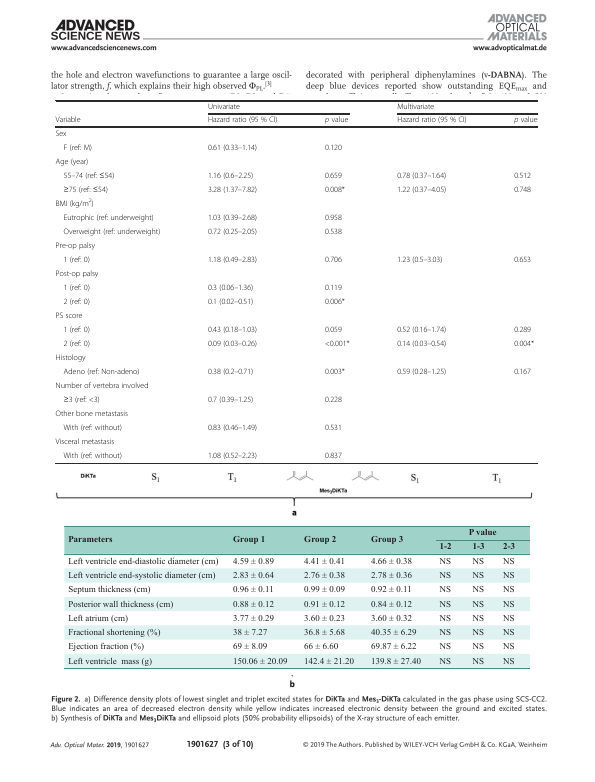borderless: (54, 99, 538, 463), (63, 524, 530, 668)
cell: (66, 557, 219, 567), (66, 571, 216, 581), (66, 600, 174, 610), (62, 227, 161, 237), (66, 628, 161, 638), (55, 381, 149, 391), (66, 585, 151, 596), (62, 213, 155, 223), (66, 657, 152, 667), (66, 642, 144, 653), (62, 367, 140, 377), (55, 409, 129, 419), (396, 116, 468, 126), (207, 116, 278, 126), (66, 614, 128, 624), (62, 423, 123, 433), (62, 451, 123, 461), (55, 437, 115, 447), (232, 657, 288, 667), (62, 171, 115, 181), (370, 642, 417, 653), (207, 143, 258, 153), (396, 171, 447, 181), (207, 185, 258, 195), (396, 185, 447, 195), (207, 213, 258, 223), (207, 227, 258, 237), (207, 255, 258, 265), (207, 325, 258, 335), (396, 325, 447, 335), (207, 339, 258, 349), (396, 339, 447, 349), (396, 367, 447, 377), (207, 423, 258, 433), (207, 451, 258, 461), (303, 657, 354, 667), (370, 657, 421, 667), (207, 171, 254, 181), (62, 185, 109, 195), (396, 255, 443, 265), (207, 283, 254, 293), (207, 297, 254, 307), (207, 367, 254, 377), (207, 395, 254, 405), (370, 628, 417, 638), (232, 585, 274, 596), (303, 585, 345, 596), (370, 585, 412, 596), (67, 536, 113, 546), (55, 198, 95, 209), (55, 269, 99, 279), (232, 557, 274, 567), (303, 557, 345, 567), (370, 557, 412, 567), (232, 571, 274, 581), (303, 571, 345, 581), (370, 571, 412, 581), (232, 600, 274, 610), (303, 600, 345, 610), (370, 600, 412, 610), (232, 614, 274, 624), (303, 614, 345, 624), (370, 614, 412, 624), (303, 628, 345, 638), (55, 241, 96, 251), (232, 642, 268, 653), (303, 642, 339, 653), (62, 395, 101, 405), (232, 628, 268, 638), (396, 103, 435, 112), (369, 536, 404, 546), (55, 157, 89, 167), (232, 536, 266, 546), (303, 536, 337, 546), (62, 143, 93, 153), (55, 353, 86, 363), (207, 103, 241, 112), (467, 529, 497, 539), (62, 255, 91, 265), (62, 283, 91, 293), (62, 297, 91, 307), (62, 325, 91, 335), (62, 339, 91, 349), (55, 311, 83, 321), (324, 339, 351, 349), (55, 116, 81, 126), (324, 116, 349, 126), (513, 116, 538, 126), (324, 185, 346, 195), (324, 297, 346, 307), (513, 339, 535, 349), (324, 367, 346, 377), (324, 143, 343, 153), (324, 171, 343, 181), (513, 171, 532, 181), (513, 185, 532, 195), (324, 213, 343, 223), (324, 227, 343, 237), (324, 255, 343, 265), (513, 255, 532, 265), (324, 283, 343, 293), (324, 325, 343, 335), (513, 325, 532, 335), (513, 367, 532, 377), (324, 395, 343, 405), (324, 423, 343, 433), (324, 451, 343, 461), (438, 585, 452, 596), (471, 585, 485, 596), (438, 642, 452, 653), (471, 642, 485, 653), (502, 585, 515, 596), (502, 642, 515, 653), (438, 543, 452, 553), (471, 543, 485, 553), (501, 543, 515, 553), (438, 557, 452, 567), (471, 557, 485, 567), (438, 571, 452, 581), (471, 571, 485, 581), (438, 600, 452, 610), (471, 600, 485, 610), (438, 614, 452, 624), (471, 614, 485, 624), (438, 628, 452, 638), (471, 628, 485, 638), (438, 657, 452, 667), (471, 657, 485, 667), (502, 557, 515, 567), (502, 571, 515, 581), (502, 600, 515, 610), (502, 614, 515, 624), (502, 628, 515, 638), (502, 657, 515, 667), (55, 129, 67, 139)
